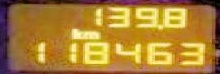-: (154, 24, 163, 29)
1: (29, 39, 49, 64), (58, 40, 76, 64), (89, 5, 102, 26)
3: (176, 40, 205, 65), (105, 5, 129, 27)
6: (143, 40, 172, 64)
8: (80, 39, 109, 64), (160, 5, 187, 27)
9: (131, 5, 156, 26)
X: (67, 25, 82, 39), (82, 30, 98, 40)
